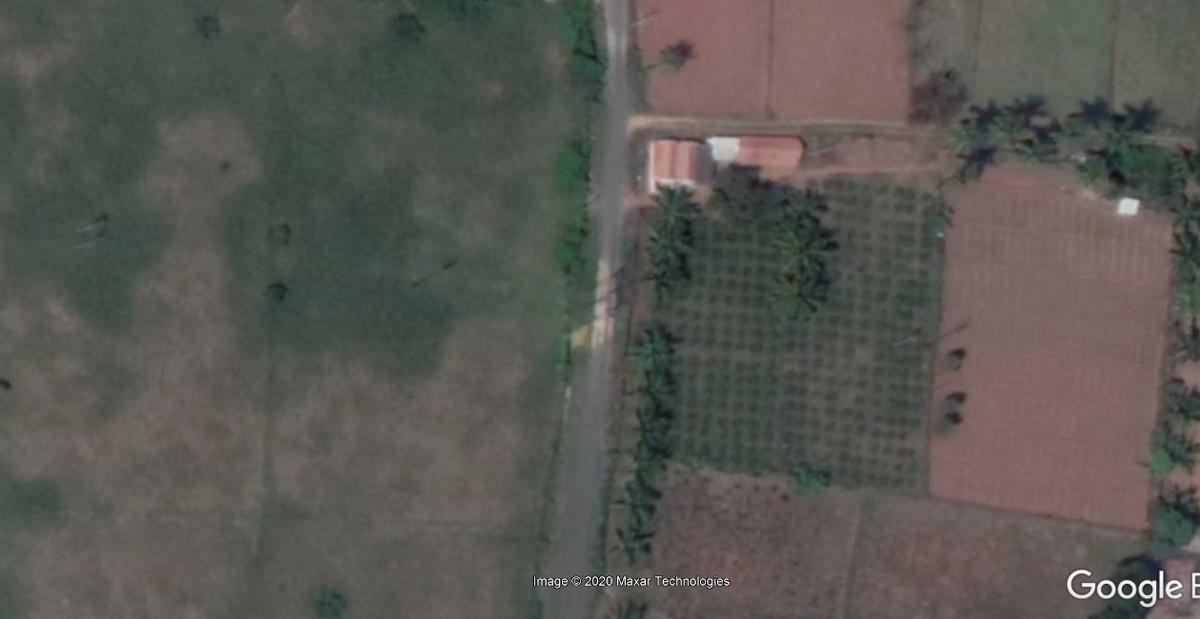coconut: (770, 223, 837, 271), (985, 112, 1036, 161), (610, 526, 660, 575), (778, 271, 829, 317), (1100, 117, 1147, 166), (625, 325, 679, 367), (625, 407, 678, 449), (780, 185, 832, 223), (611, 479, 656, 522), (646, 259, 684, 308), (634, 362, 678, 402), (650, 220, 691, 258), (650, 187, 697, 219), (1172, 226, 1200, 263), (1176, 321, 1200, 350)
